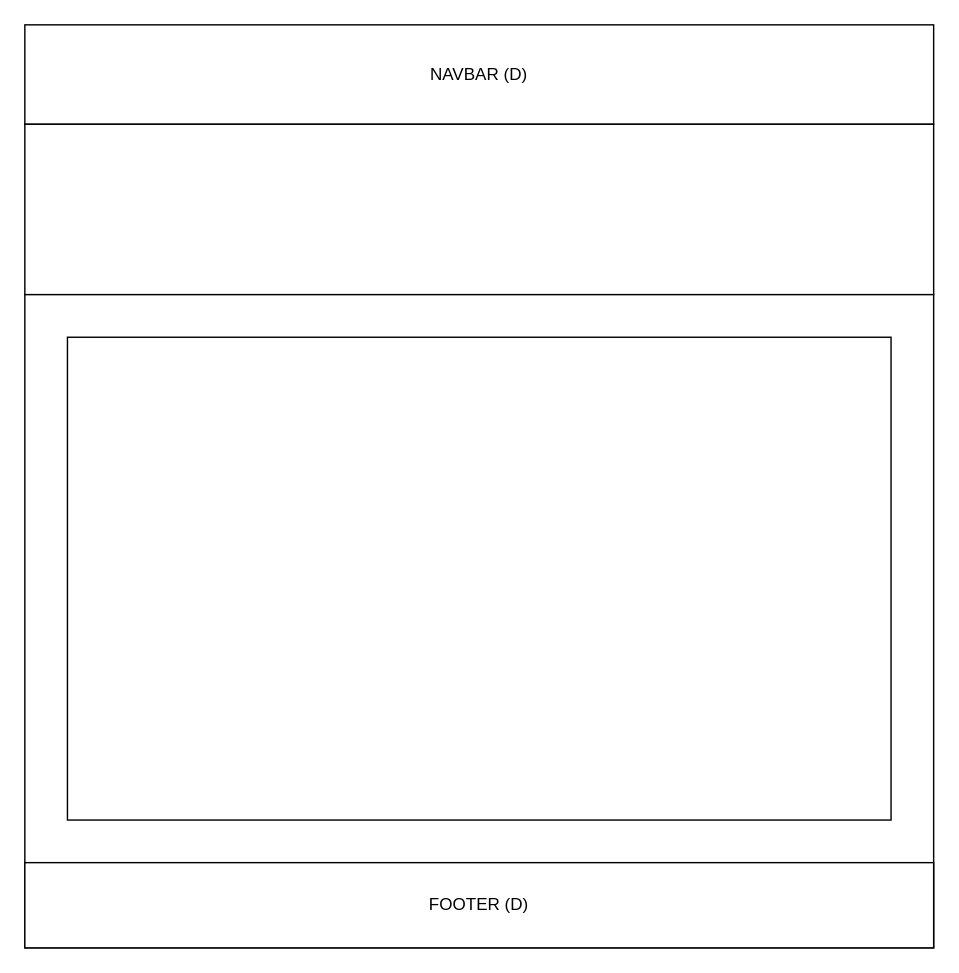
Some shapes in this 959 by 973 pixel diagram are drawn without their labels. The box of each missing label's shape, as (x1, y1, x2, y2) in pixels:
ABOUT (SARA WILL DO IT): (66, 336, 891, 820)
HERO 2 ( SARA CHOSE IMG WHICH IS FITTING TO TOPIC OF SUBPAGE): (23, 123, 934, 295)
